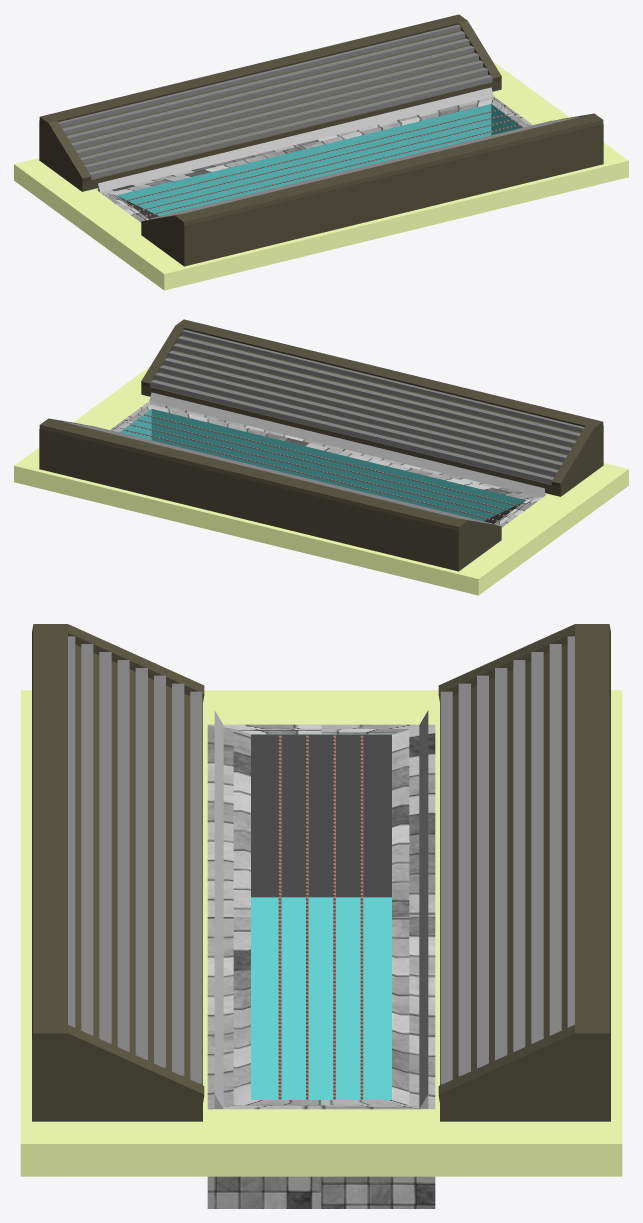
The model's file is SwimmingPool_AdsBanner_ Divider.fbx.
The picture shows the model from 3 angles, top to bottom: view 1: azimuth 30°, elevation 25°; view 2: azimuth 150°, elevation 25°; view 3: azimuth 270°, elevation 25°; orthographic projection. The views are drawn at different scales.
Visible parts, largest first — view 1: Stadium, Swimming, ADsBanner; view 2: Stadium, Swimming, ADsBanner; view 3: Stadium, Swimming, Ramp, ADsBanner.
Part boxes in pixels (<box>): Stadium: <box>39,14,603,266</box>; Swimming: <box>14,61,628,290</box>; ADsBanner: <box>98,87,493,192</box>; Stadium: <box>39,319,603,571</box>; Swimming: <box>14,366,628,595</box>; ADsBanner: <box>149,392,544,497</box>; Stadium: <box>32,624,610,1121</box>; Swimming: <box>20,690,622,1208</box>; Ramp: <box>251,734,391,897</box>; ADsBanner: <box>214,710,428,1108</box>.
Size of the model in its own units: 5905 by 1141 by 3309.
